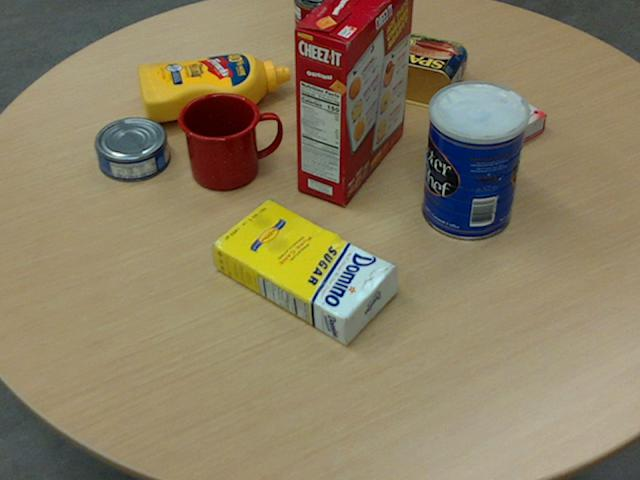cracker_box: (292, 0, 414, 205)
gelatin_box: (454, 87, 546, 155)
large_marker: (315, 22, 330, 111)
master_chef_can: (421, 80, 528, 240)
mug: (177, 91, 280, 189)
mustard_bottle: (136, 52, 290, 121)
potted_meat_can: (375, 33, 467, 109)
sugar_box: (209, 199, 397, 345)
tomato_soup_can: (294, 0, 344, 73)
tuna_fish_can: (93, 116, 168, 180)
